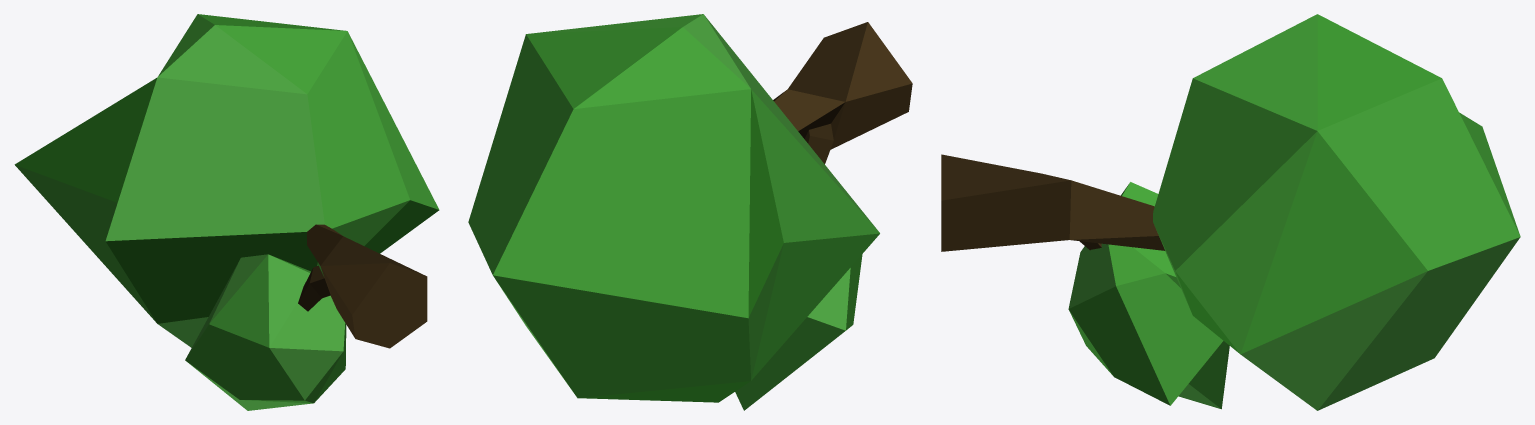
The model's file is tree_4.fbx.
3 renders of one model, left to right at view 1: azimuth 30°, elevation 25°; view 2: azimuth 150°, elevation 25°; view 3: azimuth 270°, elevation 25°, orthographic. The views are drawn at different scales.
Parts seen in each view (by area): view 1: tree_4; view 2: tree_4; view 3: tree_4.
Part boxes in pixels (<box>): tree_4: <box>14,14,439,410</box>; tree_4: <box>468,14,912,410</box>; tree_4: <box>941,14,1520,410</box>.
Size of the model in its own units: 131 by 135 by 176.
